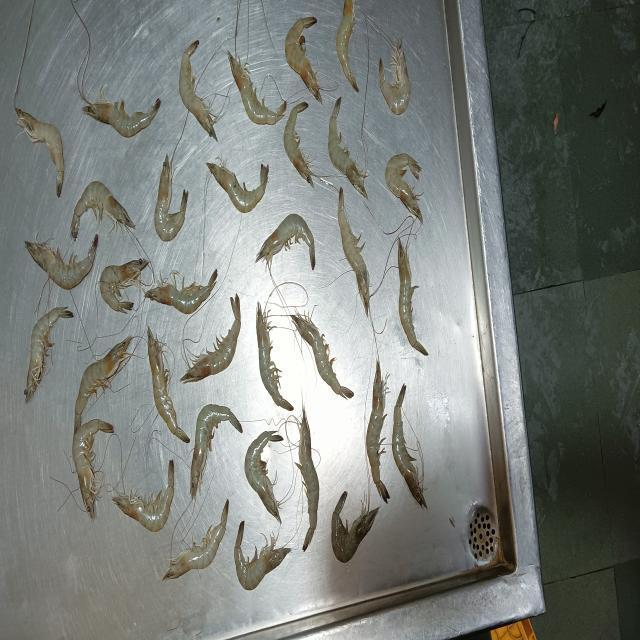shrimp: (292, 313, 354, 398), (75, 337, 131, 431), (182, 295, 241, 382), (164, 501, 229, 579), (191, 404, 242, 499), (148, 328, 190, 443), (25, 308, 71, 401), (114, 460, 174, 531), (392, 385, 426, 507), (229, 52, 287, 123), (16, 108, 63, 195), (338, 190, 370, 317), (73, 419, 113, 518), (328, 98, 367, 197), (26, 235, 98, 288), (235, 522, 291, 590), (71, 181, 135, 239), (180, 41, 217, 139), (258, 305, 292, 410), (245, 430, 283, 521), (332, 491, 379, 563), (256, 214, 315, 270), (365, 359, 388, 502), (399, 240, 427, 354), (145, 270, 217, 313), (285, 16, 321, 102), (207, 162, 267, 211), (297, 411, 318, 551), (83, 97, 160, 135), (155, 155, 187, 240), (284, 103, 315, 187), (100, 259, 148, 311), (386, 154, 422, 223), (380, 38, 410, 114), (337, 0, 357, 91)
